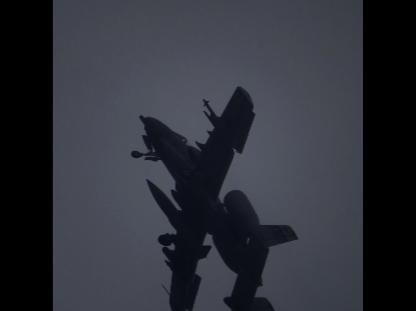A10: (131, 85, 300, 309)
